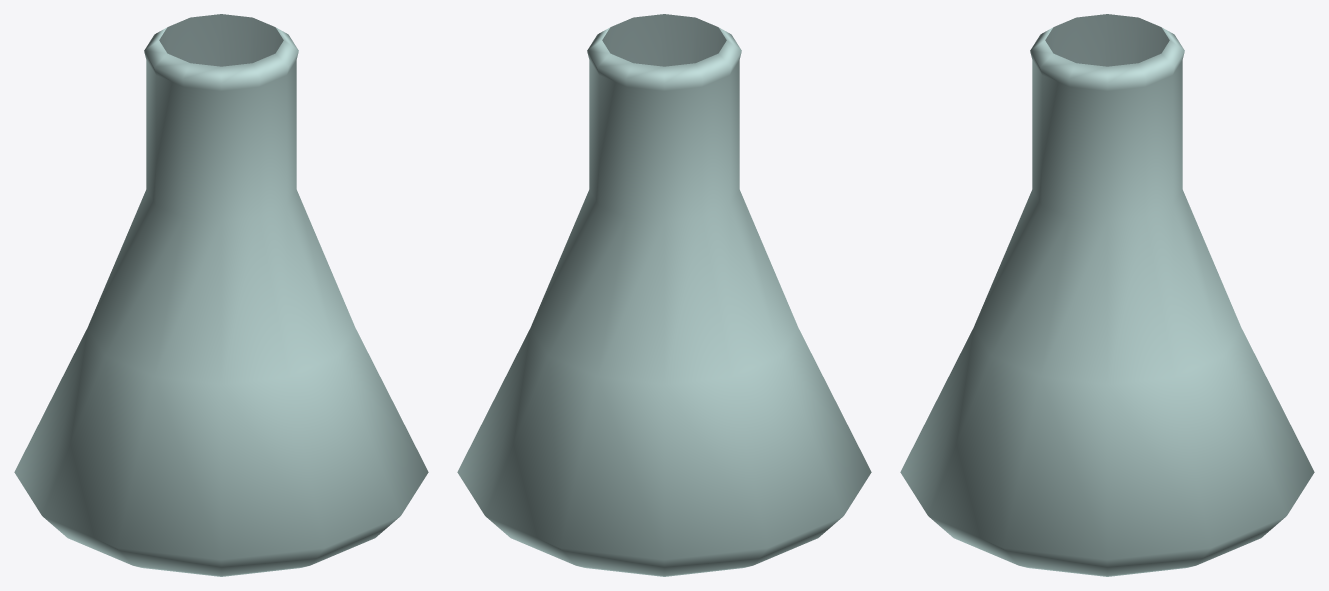
The model's file is Enlenmeyer.fbx.
3 renders of one model, left to right at view 1: azimuth 30°, elevation 25°; view 2: azimuth 150°, elevation 25°; view 3: azimuth 270°, elevation 25°, orthographic.
Visible parts, largest first — view 1: Erlenmeyer; view 2: Erlenmeyer; view 3: Erlenmeyer.
Boxes of the visible parts, box(x1,y1,x2,y2) form: Erlenmeyer: box(14, 14, 428, 576); Erlenmeyer: box(457, 14, 871, 576); Erlenmeyer: box(900, 14, 1314, 576).
Size of the model in its own units: 77.49 by 96.86 by 77.49.
